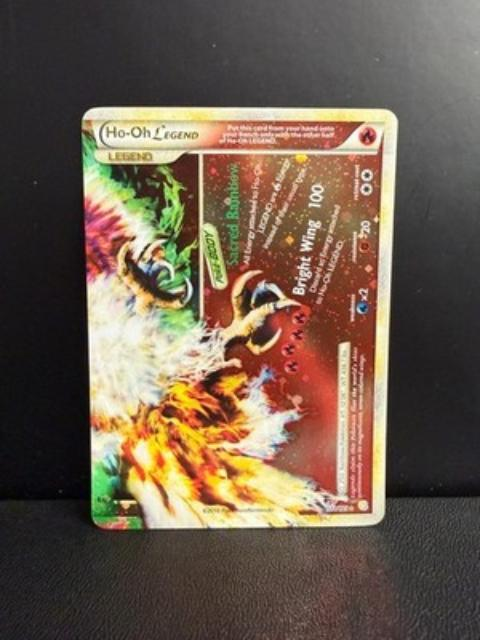Card: (77, 105, 401, 534)
Name: (101, 122, 203, 147)
